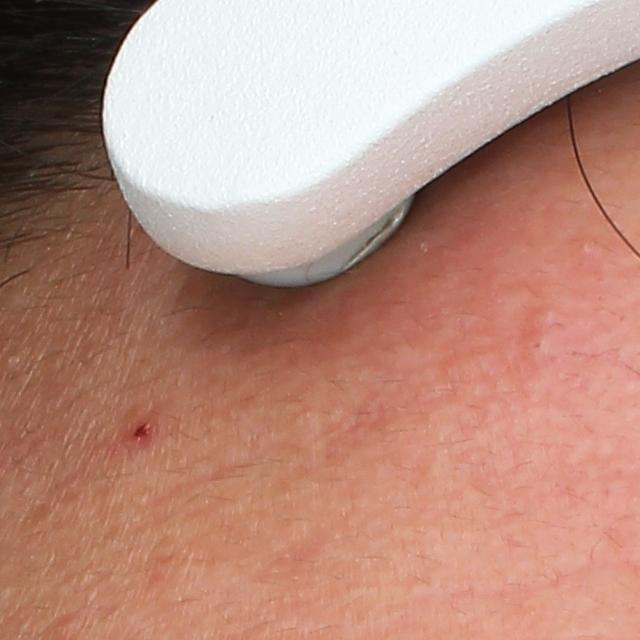comedo: (517, 329, 558, 364)
